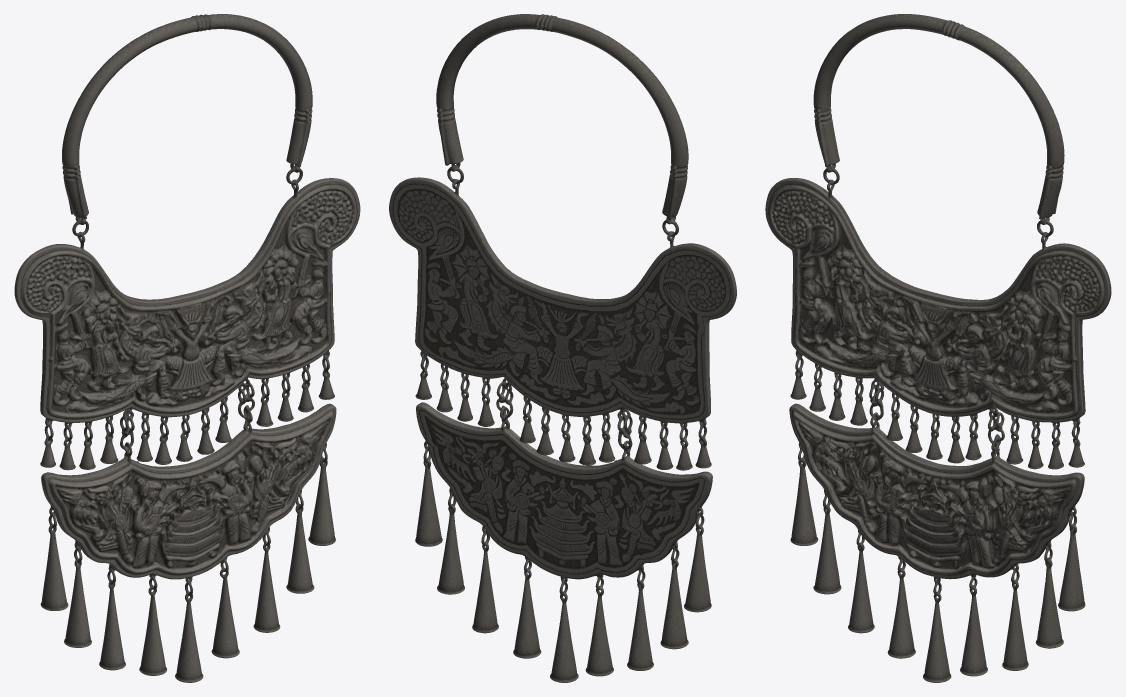
The model's file is tribal-ornament.glb.
3 renders of one model, left to right at view 1: azimuth 30°, elevation 25°; view 2: azimuth 150°, elevation 25°; view 3: azimuth 330°, elevation 25°, orthographic.
Size of the model in its own units: 1.04 by 1.89 by 0.0801.
1 material, 1 textured.
